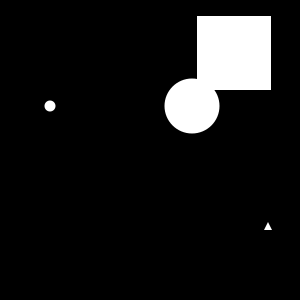circle: (197, 16, 271, 90)
rectangle: (164, 78, 220, 134), (44, 100, 56, 112)
triangle: (264, 222, 272, 230)
